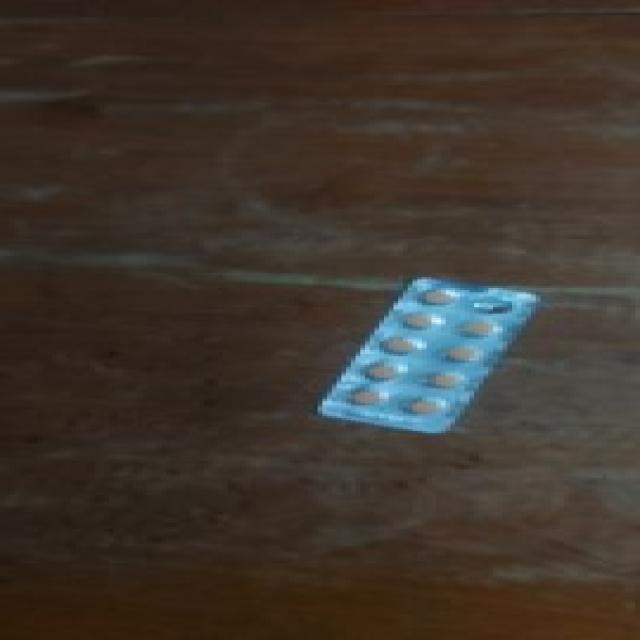Cacat: (324, 276, 543, 437)
Kemasan: (462, 292, 526, 321)
